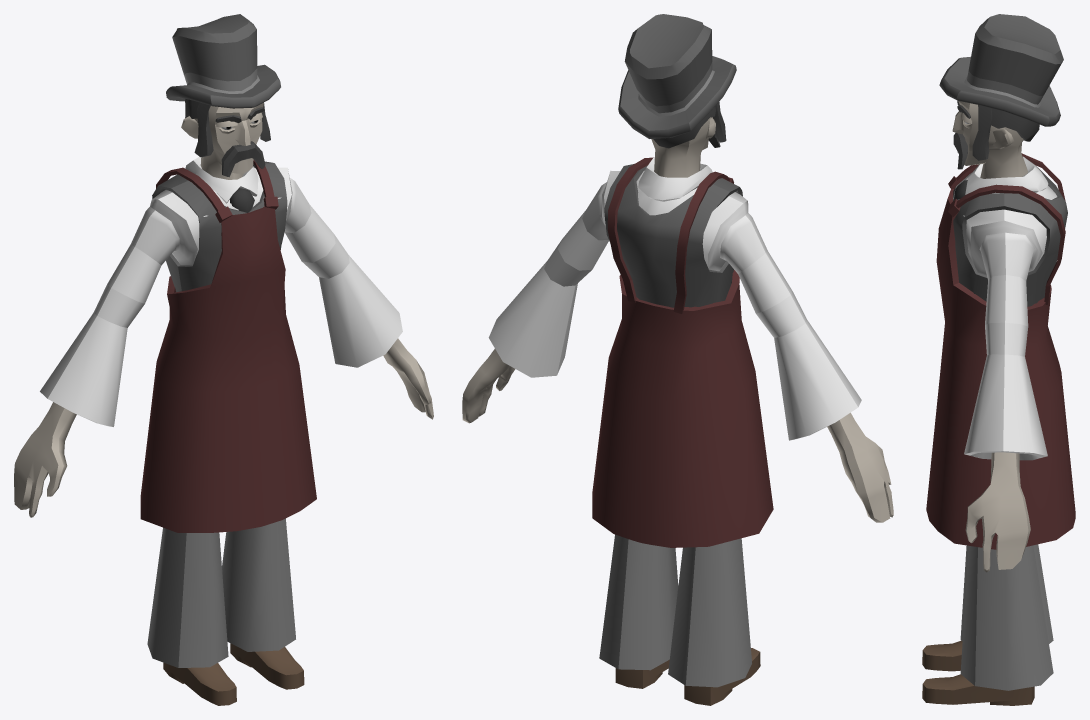
The model's file is Barbero_model.fbx.
The picture shows the model from 3 angles, left to right: view 1: azimuth 30°, elevation 25°; view 2: azimuth 150°, elevation 25°; view 3: azimuth 270°, elevation 25°; orthographic projection. The views are drawn at different scales.
Visible parts, largest first — view 1: body_base, delantal, hat, chaleco, patillas, bigote; view 2: body_base, delantal, hat, chaleco; view 3: body_base, delantal, hat, chaleco, pelo, patillas, bigote.
Boxes of the visible parts, <box> form: body_base: <box>14,102,433,705</box>; delantal: <box>140,160,316,532</box>; hat: <box>166,14,280,108</box>; chaleco: <box>152,161,287,292</box>; patillas: <box>194,102,270,157</box>; bigote: <box>221,141,265,177</box>; body_base: <box>462,117,893,705</box>; delantal: <box>592,157,773,547</box>; hat: <box>618,14,736,138</box>; chaleco: <box>604,163,742,307</box>; body_base: <box>922,101,1057,705</box>; delantal: <box>926,153,1075,549</box>; hat: <box>939,14,1063,126</box>; chaleco: <box>953,167,1067,306</box>; pelo: <box>990,108,1039,141</box>; patillas: <box>972,105,992,160</box>; bigote: <box>953,133,967,169</box>.
Bounding box in the file's own units: 1.58 × 2.36 × 0.5019.
